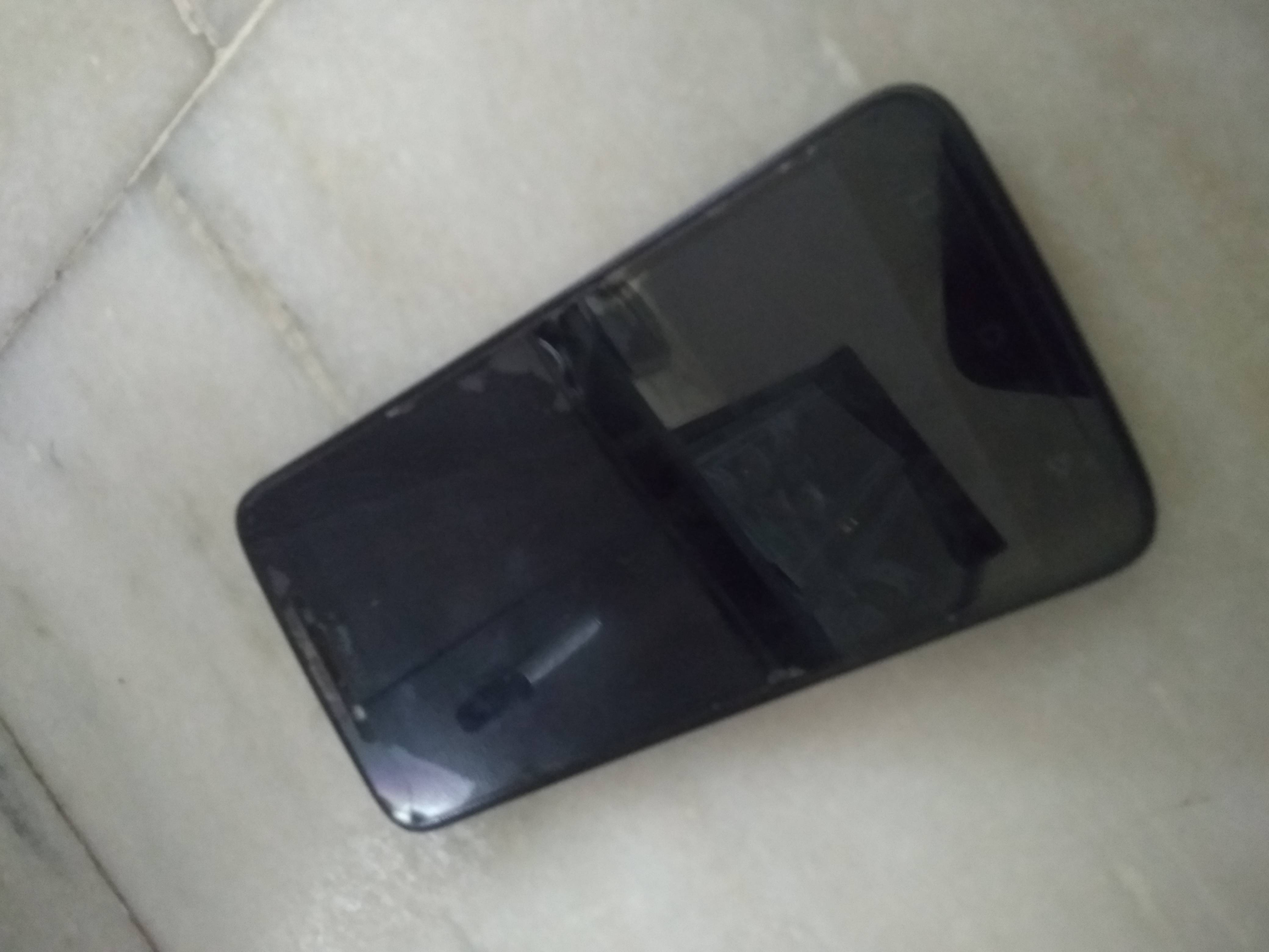Electronics: (223, 52, 1167, 870)
